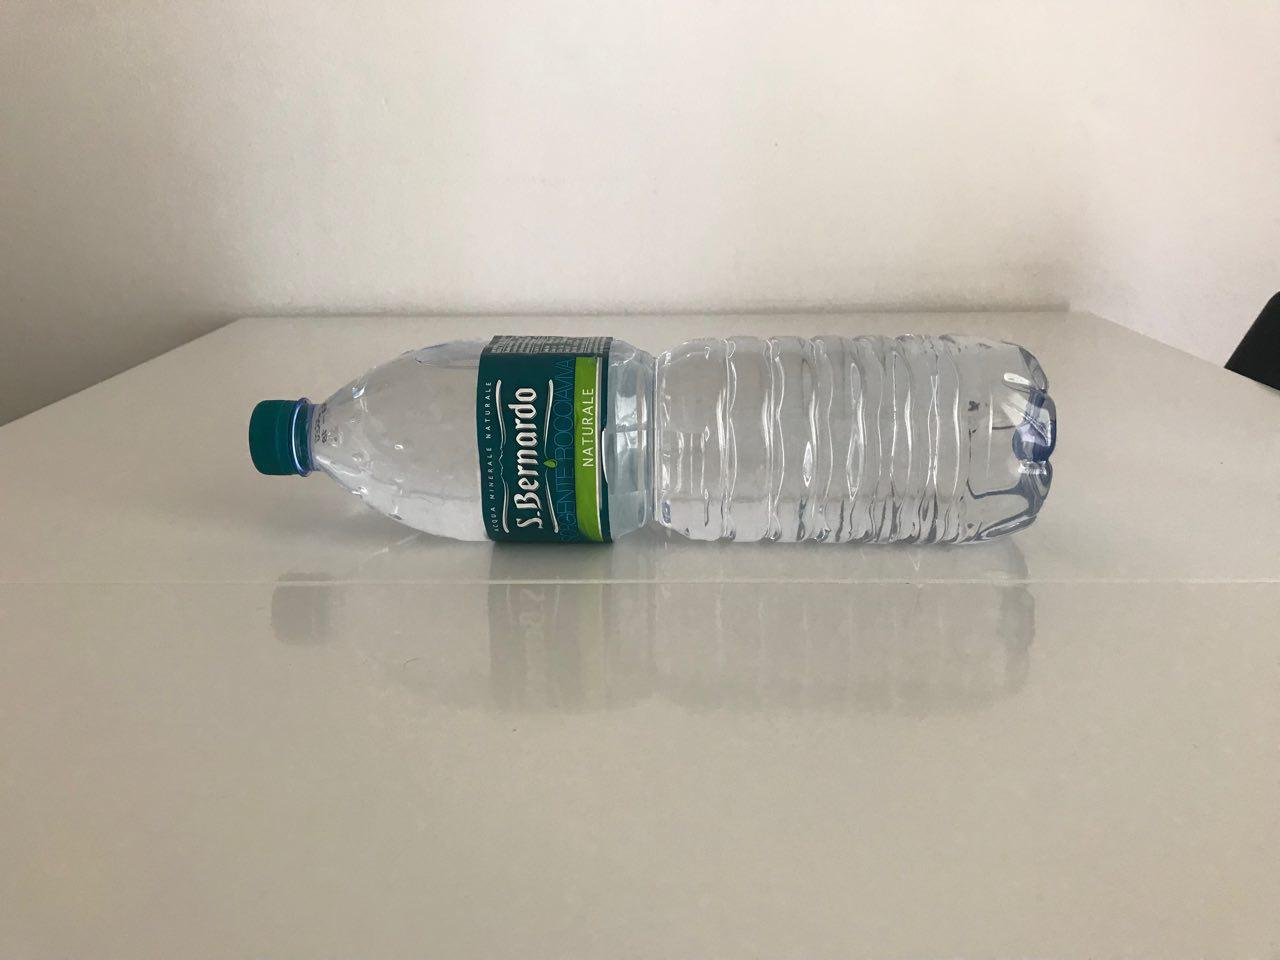san_bernardo: (246, 333, 1059, 550)
